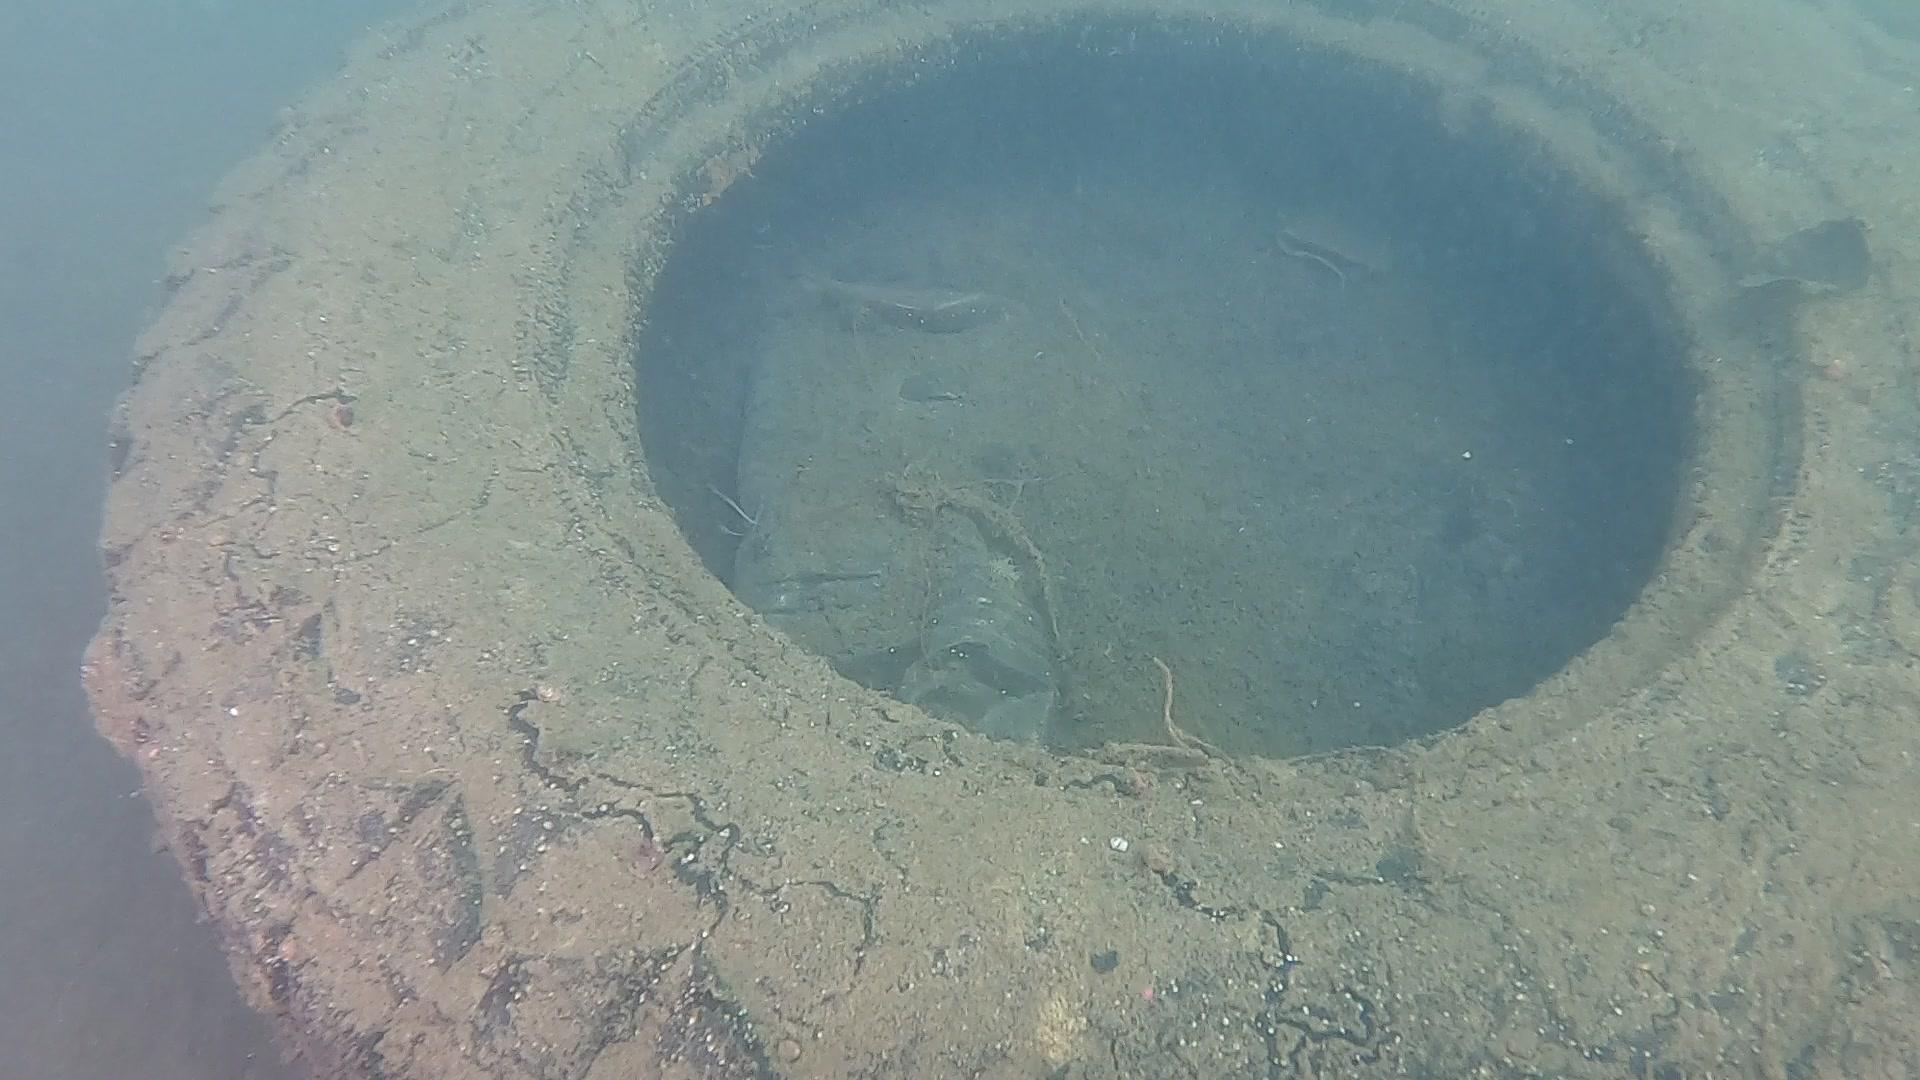tire: (79, 0, 1920, 1080)
